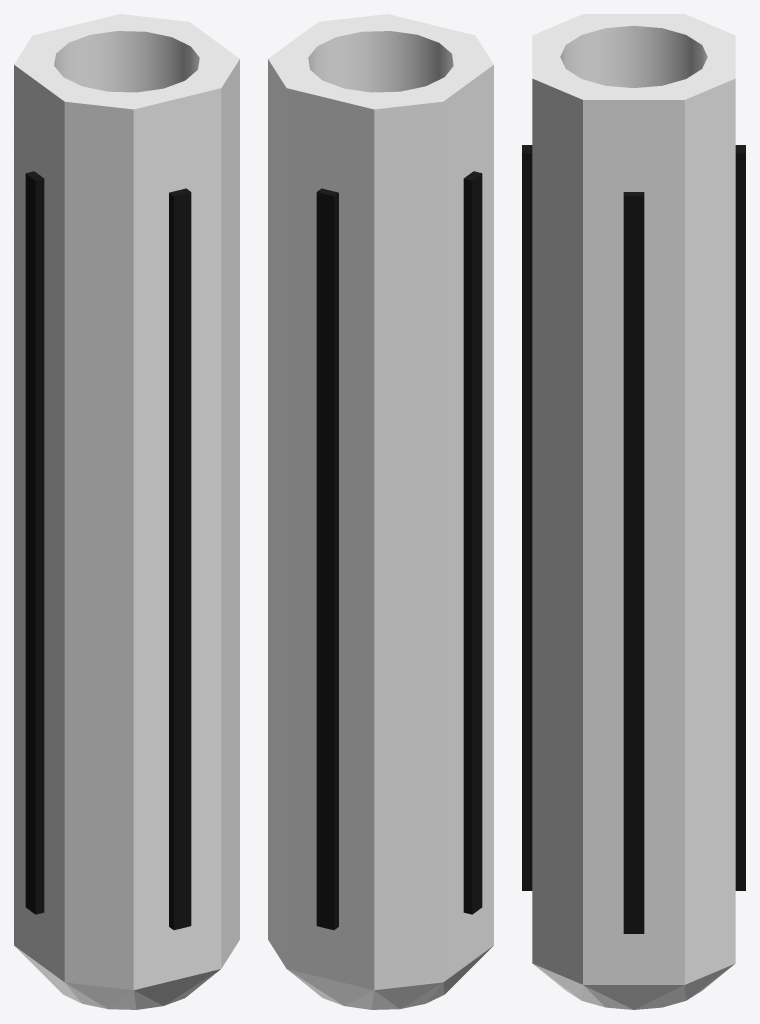
File: Wea_HuoJianDan_1X5_on.FBX
3 renders of one model, left to right at view 1: azimuth 30°, elevation 25°; view 2: azimuth 150°, elevation 25°; view 3: azimuth 270°, elevation 25°, orthographic.
Visible parts, largest first — view 1: Box002; view 2: Box002; view 3: Box002.
Part boxes in pixels (<box>): Box002: <box>14,14,239,1009</box>; Box002: <box>268,14,493,1009</box>; Box002: <box>522,14,745,1009</box>.
Bounding box in the file's own units: 1.1 × 5 × 1.1.
